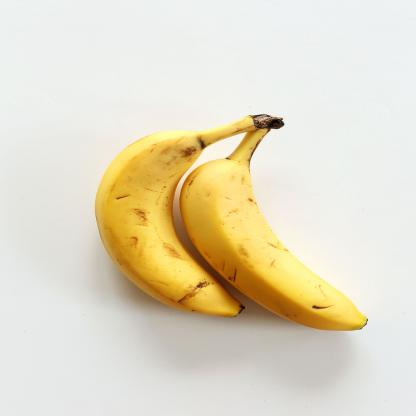banana: (182, 158, 376, 356), (89, 122, 249, 332)
